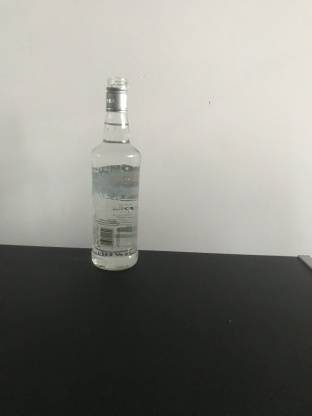nakretka: (104, 73, 129, 114)
